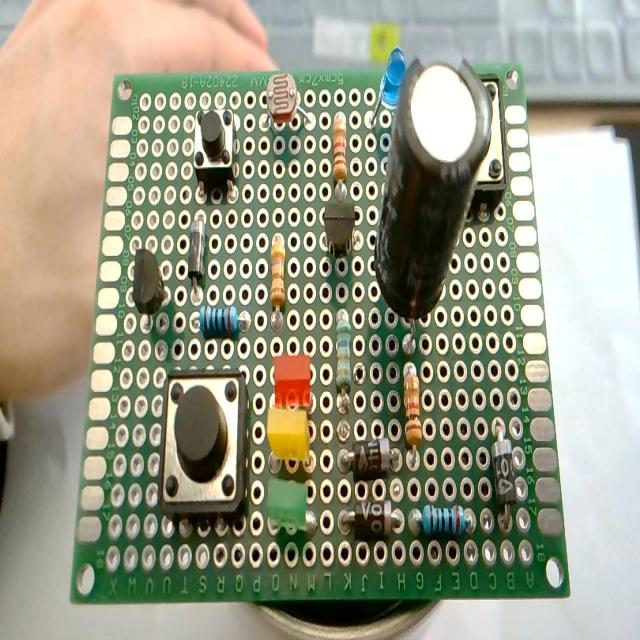Electrolytic capacitor: (375, 47, 491, 357)
cds: (253, 68, 317, 144)
diode: (489, 410, 519, 541), (331, 439, 404, 477), (337, 498, 403, 540), (188, 213, 210, 297)
led: (266, 469, 320, 544), (262, 400, 314, 467), (262, 354, 320, 413)
resistor: (408, 500, 478, 542), (400, 362, 424, 469), (333, 307, 355, 423), (189, 301, 255, 339), (267, 231, 290, 329), (332, 103, 348, 205)
switch: (154, 360, 252, 536), (184, 99, 243, 205)
transistor: (128, 248, 174, 327), (310, 203, 358, 266)
